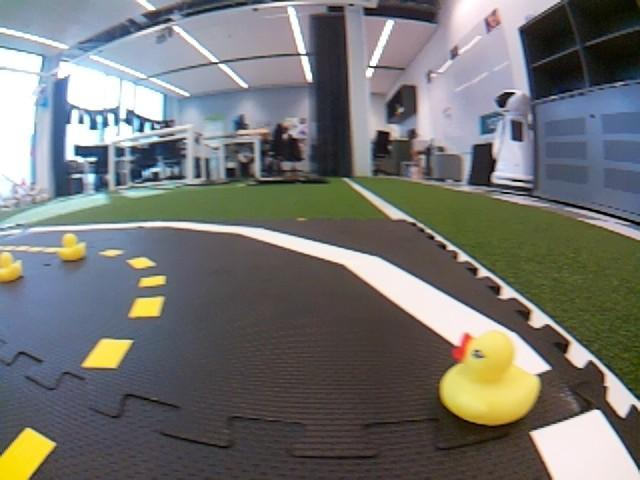Duckies: (437, 331, 539, 428), (57, 235, 88, 260), (0, 254, 20, 284)
